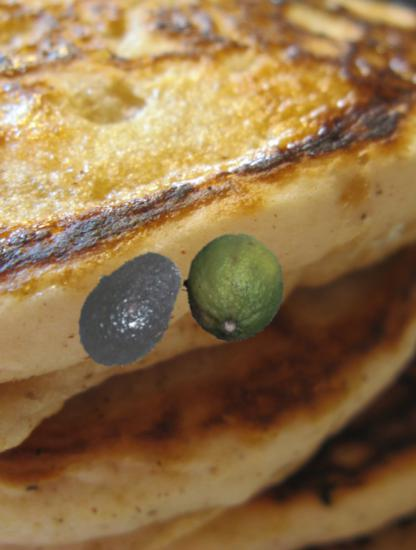Avocado: (66, 243, 194, 371)
Limes: (179, 233, 288, 342)
